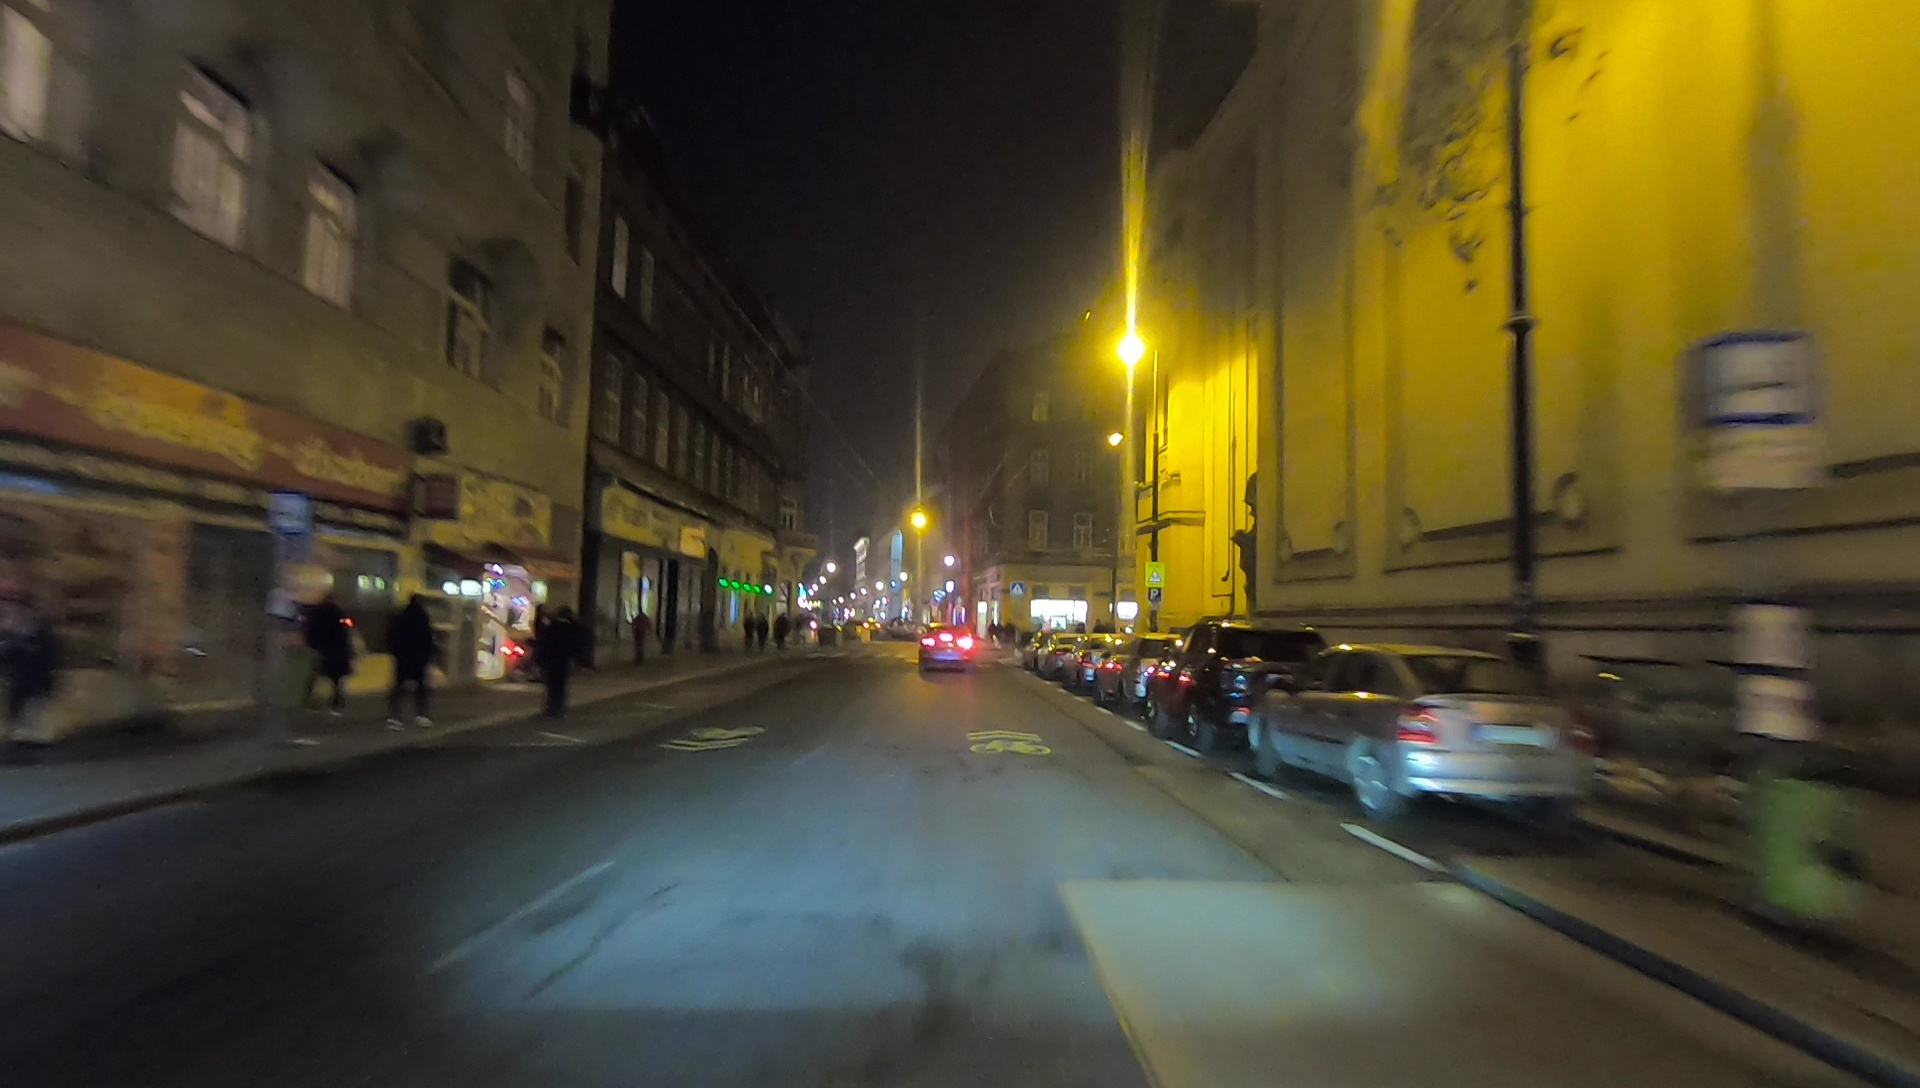person: (385, 598, 440, 728), (531, 599, 585, 721), (304, 591, 350, 713), (629, 610, 649, 672), (772, 606, 790, 659), (741, 606, 756, 653), (756, 609, 769, 659)
